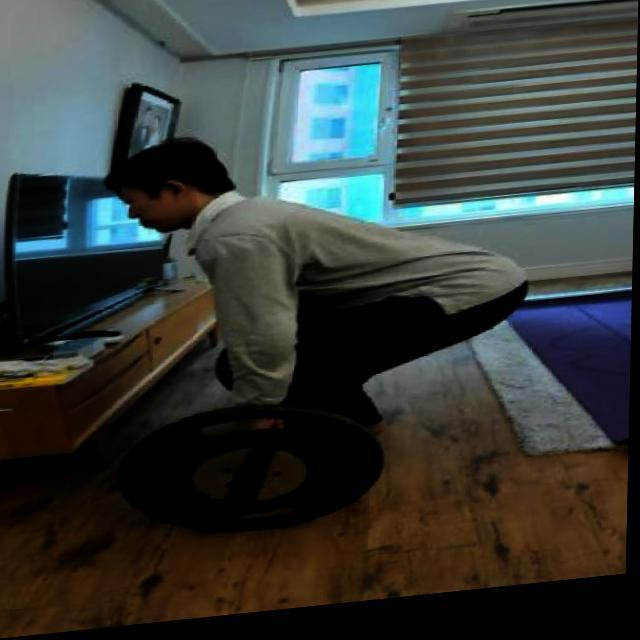barbell: (111, 393, 396, 562)
